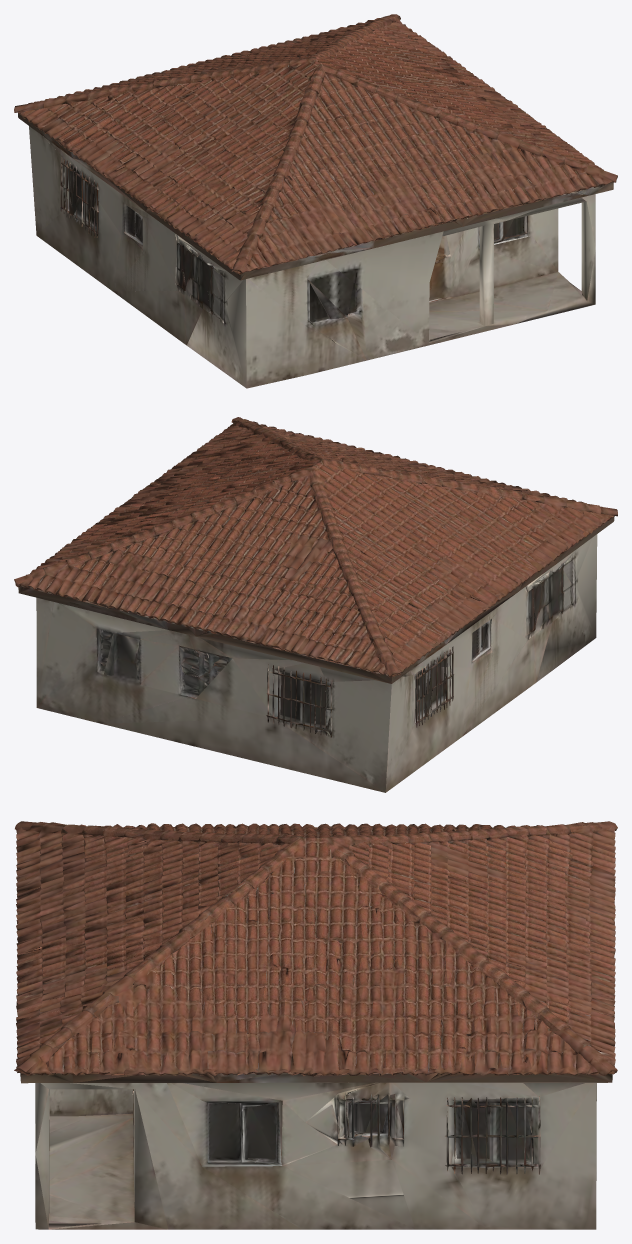
Rendered from house-01-bungalow.glb.
3 views of the same model, one above another, from view 1: azimuth 30°, elevation 25°; view 2: azimuth 150°, elevation 25°; view 3: azimuth 270°, elevation 25° (orthographic). The views are drawn at different scales.
Visible parts, largest first — view 1: Mesh_0; view 2: Mesh_0; view 3: Mesh_0.
Boxes of the visible parts, left/top/right/bottom form: Mesh_0: left=14, top=14, right=617, bottom=388; Mesh_0: left=14, top=417, right=617, bottom=792; Mesh_0: left=14, top=821, right=617, bottom=1229.
Bounding box in the file's own units: 1.88 × 0.9773 × 1.91.
1 material, 1 textured.
